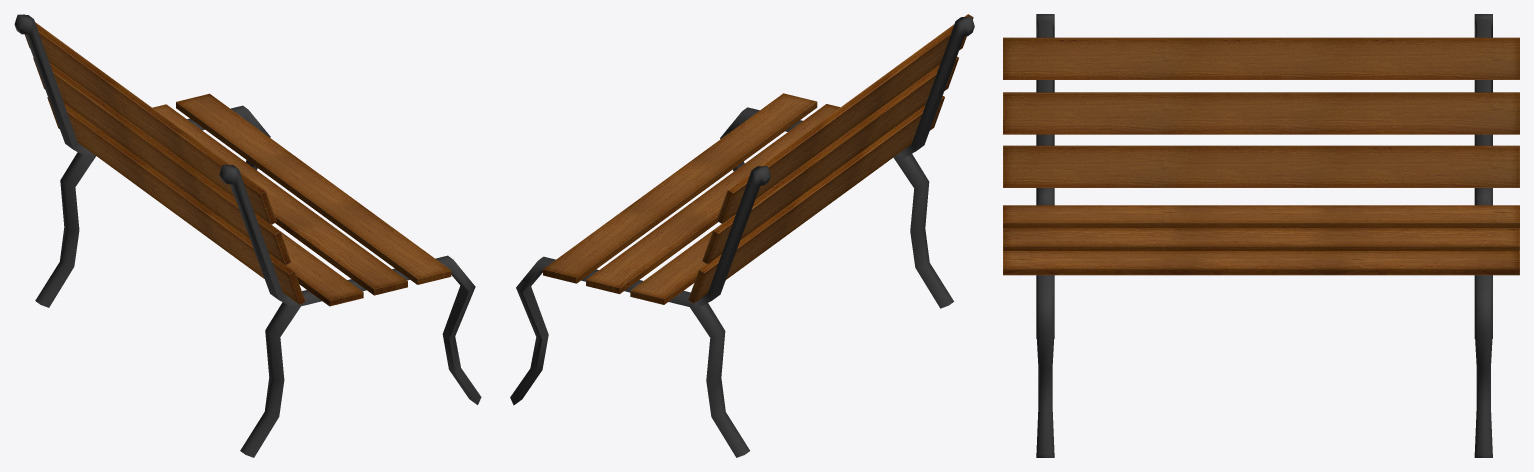
File: square_seat.fbx
3 renders of one model, left to right at view 1: azimuth 30°, elevation 25°; view 2: azimuth 150°, elevation 25°; view 3: azimuth 270°, elevation 25°, orthographic. The views are drawn at different scales.
Parts seen in each view (by area): view 1: square_seat; view 2: square_seat; view 3: square_seat.
Boxes of the visible parts, x1=… form: square_seat: x1=14, y1=14, x2=481, y2=457; square_seat: x1=510, y1=14, x2=974, y2=457; square_seat: x1=1003, y1=14, x2=1519, y2=457.
Size of the model in its own units: 2.13 by 2.33 by 3.47.
Materials: 1 (1 with a texture image).
